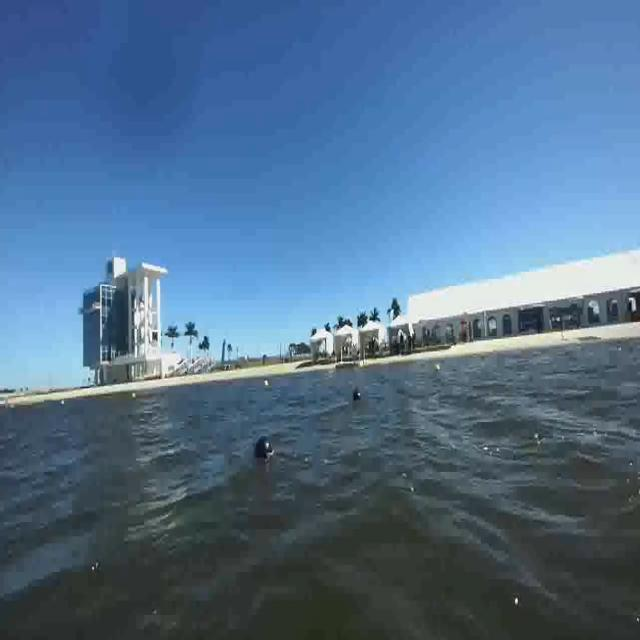black-buoy: (255, 434, 274, 460), (350, 384, 362, 403)
yellow-buoy: (434, 362, 441, 372)
